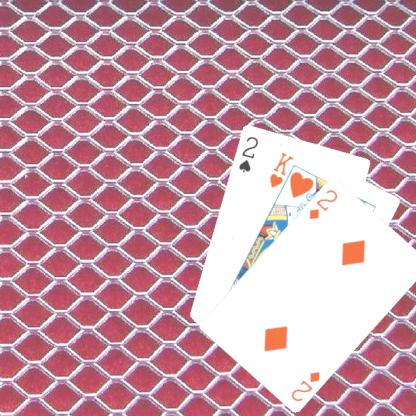2D: (306, 186, 340, 221), (288, 368, 321, 403)
2S: (236, 133, 260, 174)
KH: (266, 149, 295, 189)
